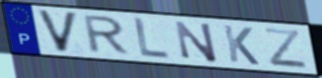K: (221, 23, 262, 67)
L: (133, 16, 172, 61)
N: (172, 20, 220, 65)
R: (82, 14, 133, 56)
V: (34, 8, 80, 55)
Z: (261, 27, 310, 70)
